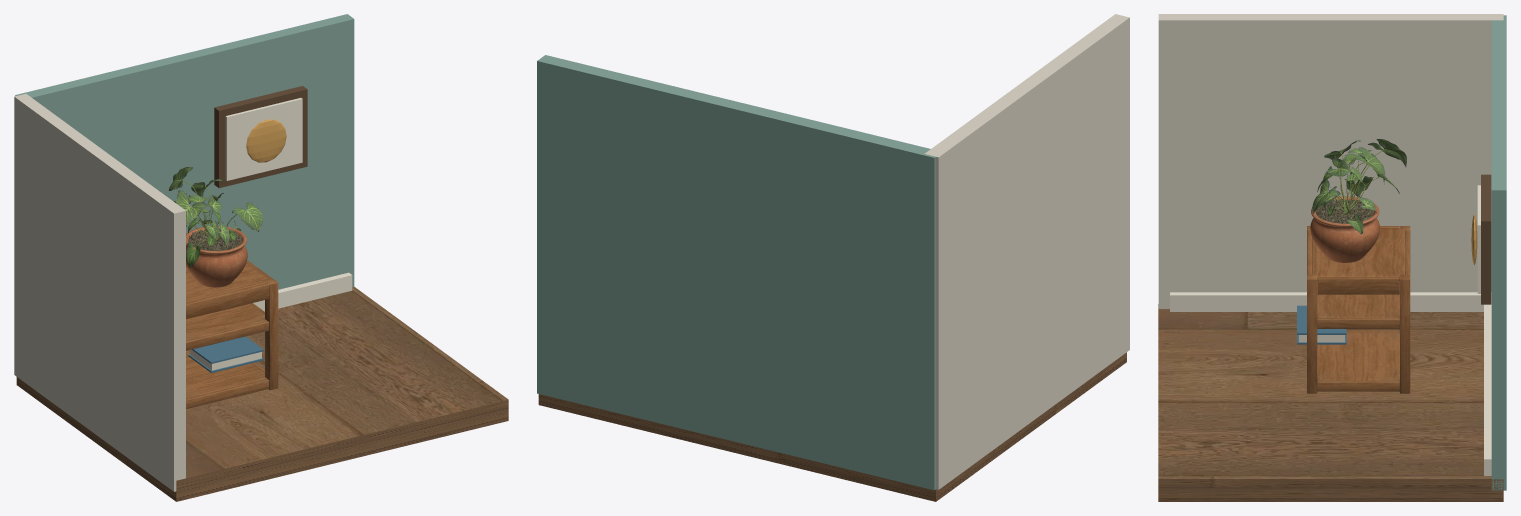
Rendered from corner.glb.
3 views of the same model, side by side, from view 1: azimuth 30°, elevation 25°; view 2: azimuth 150°, elevation 25°; view 3: azimuth 270°, elevation 25° (orthographic). The views are drawn at different scales.
Visible parts, largest first — view 1: Left_Plaster_Wall, Rear_Sage_Wall, Wood_Floor, Oak_Side_Table, Wall_Art_Inset, Terracotta_Plant_leaves, Wall_Art_Frame, Terracotta_Plant_pot, Rear_Skirting, Wall_Art_Sun, Book_Cover.001, Terracotta_Plant_dirt; view 2: Rear_Sage_Wall, Left_Plaster_Wall, Wood_Floor; view 3: Left_Plaster_Wall, Wood_Floor, Oak_Side_Table, Rear_Sage_Wall, Left_Skirting, Terracotta_Plant_leaves, Terracotta_Plant_pot, Wall_Art_Frame, Rear_Skirting, Terracotta_Plant_dirt, Book_Cover.001, Wall_Art_Inset.
Boxes of the visible parts, box(x1,y1,x2,y2) form: Left_Plaster_Wall: box(14, 94, 185, 491); Rear_Sage_Wall: box(15, 14, 354, 289); Wood_Floor: box(16, 286, 508, 501); Oak_Side_Table: box(186, 260, 278, 408); Wall_Art_Inset: box(225, 98, 302, 180); Terracotta_Plant_leaves: box(168, 167, 262, 267); Wall_Art_Frame: box(214, 86, 307, 188); Terracotta_Plant_pot: box(186, 226, 247, 287); Rear_Skirting: box(253, 272, 352, 311); Wall_Art_Sun: box(246, 119, 286, 162); Book_Cover.001: box(192, 336, 263, 363); Terracotta_Plant_dirt: box(188, 228, 242, 250); Rear_Sage_Wall: box(537, 55, 935, 490); Left_Plaster_Wall: box(924, 14, 1129, 489); Wood_Floor: box(538, 352, 1126, 501); Left_Plaster_Wall: box(1158, 14, 1503, 308); Wood_Floor: box(1158, 304, 1503, 501); Oak_Side_Table: box(1307, 226, 1410, 393); Rear_Sage_Wall: box(1491, 15, 1506, 490); Left_Skirting: box(1170, 292, 1491, 311); Terracotta_Plant_leaves: box(1312, 139, 1406, 234); Terracotta_Plant_pot: box(1310, 196, 1379, 262); Wall_Art_Frame: box(1481, 174, 1491, 304); Rear_Skirting: box(1484, 295, 1491, 475); Terracotta_Plant_dirt: box(1316, 199, 1374, 223); Book_Cover.001: box(1297, 305, 1346, 334); Wall_Art_Inset: box(1477, 185, 1480, 293).
Size of the model in its own units: 1.81 by 1.5 by 1.51.
Materials: 11 (4 with a texture image).
